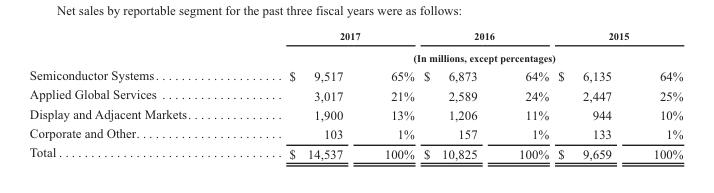table: (28, 28, 682, 161)
table column: (28, 28, 239, 161), (239, 28, 363, 161), (418, 28, 497, 161), (552, 28, 631, 161), (363, 28, 418, 161), (497, 28, 552, 161), (631, 28, 682, 161)
table column header: (28, 28, 682, 84)
table row: (28, 84, 682, 104), (28, 46, 682, 65), (28, 65, 682, 84), (28, 104, 682, 123), (28, 123, 682, 142), (28, 142, 682, 161), (28, 28, 682, 46)
table spanning cell: (28, 28, 239, 84), (239, 46, 682, 65), (239, 28, 418, 46), (418, 28, 552, 46), (552, 28, 682, 46)
